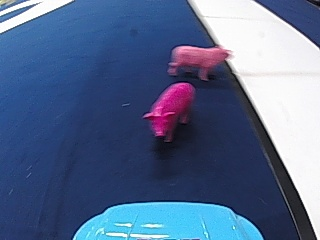pig: (140, 77, 192, 144), (166, 39, 228, 80)
